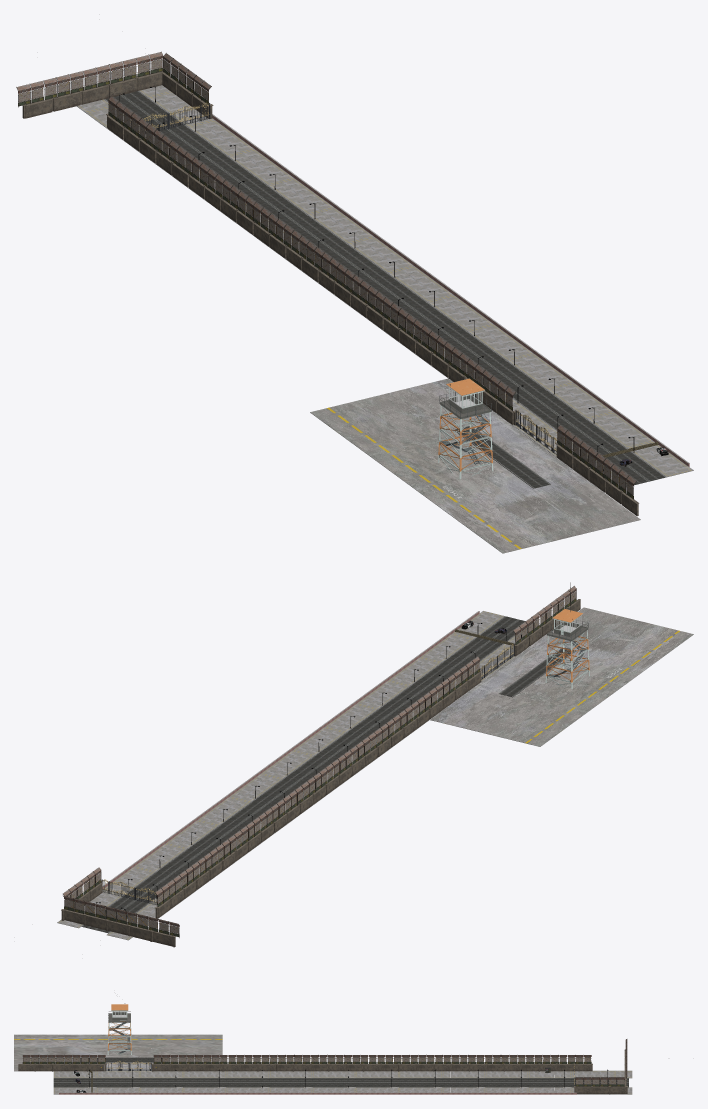
The model's file is map.glb.
3 renders of one model, top to bottom at view 1: azimuth 30°, elevation 25°; view 2: azimuth 150°, elevation 25°; view 3: azimuth 270°, elevation 25°, orthographic. The views are drawn at different scales.
Visible parts, largest first — view 1: Mesh_6, Mesh_5, Mesh_0, Mesh_4031, Mesh_1, Mesh_8, Mesh_9, Mesh_7, brick_wall_brick_0, defaultMaterial_251, Object_2001_1, defaultMaterial_198 (+2 smaller); view 2: Mesh_6, Mesh_5, Mesh_0, Mesh_4031, Mesh_1, Mesh_8, Mesh_9, Mesh_7, brick_wall_brick_0, defaultMaterial_251, Object_2001_1, brick_wall_one_overhang_small_concrete_0 (+2 smaller); view 3: Mesh_6, Mesh_5, Mesh_4031, Mesh_0, Mesh_1, Mesh_9, Mesh_8, brick_wall_brick_0, Mesh_7, brick_wall_one_overhang_small_concrete_0, defaultMaterial_251, Object_2001_1 (+3 smaller).
Boxes of the visible parts, <box> form: Mesh_6: <box>76,85,684,553</box>; Mesh_5: <box>104,91,666,488</box>; Mesh_0: <box>17,52,636,494</box>; Mesh_4031: <box>22,71,639,516</box>; Mesh_1: <box>16,51,636,499</box>; Mesh_8: <box>86,88,679,487</box>; Mesh_9: <box>78,86,693,492</box>; Mesh_7: <box>115,100,655,468</box>; brick_wall_brick_0: <box>212,115,689,466</box>; defaultMaterial_251: <box>438,358,493,479</box>; Object_2001_1: <box>130,103,557,454</box>; defaultMaterial_198: <box>439,405,491,476</box>; Mesh_6: <box>57,607,693,940</box>; Mesh_5: <box>81,616,575,933</box>; Mesh_0: <box>63,586,576,933</box>; Mesh_4031: <box>61,599,580,947</box>; Mesh_1: <box>63,586,576,937</box>; Mesh_8: <box>80,613,539,926</box>; Mesh_9: <box>84,611,522,923</box>; Mesh_7: <box>94,627,521,922</box>; brick_wall_brick_0: <box>102,611,479,888</box>; defaultMaterial_251: <box>545,582,589,688</box>; Object_2001_1: <box>101,643,514,905</box>; brick_wall_one_overhang_small_concrete_0: <box>102,611,479,886</box>; Mesh_6: <box>14,1034,632,1094</box>; Mesh_5: <box>53,1057,628,1087</box>; Mesh_4031: <box>18,1049,627,1094</box>; Mesh_0: <box>22,1039,627,1084</box>; Mesh_1: <box>22,1039,626,1086</box>; Mesh_9: <box>53,1070,623,1094</box>; Mesh_8: <box>53,1070,623,1094</box>; brick_wall_brick_0: <box>59,1093,576,1094</box>; Mesh_7: <box>79,1074,606,1090</box>; brick_wall_one_overhang_small_concrete_0: <box>59,1092,576,1092</box>; defaultMaterial_251: <box>107,1003,131,1054</box>; Object_2001_1: <box>106,1061,574,1086</box>.
Bounding box in the file's own units: 132 × 68.35 × 630.
28 materials, 25 textured.
